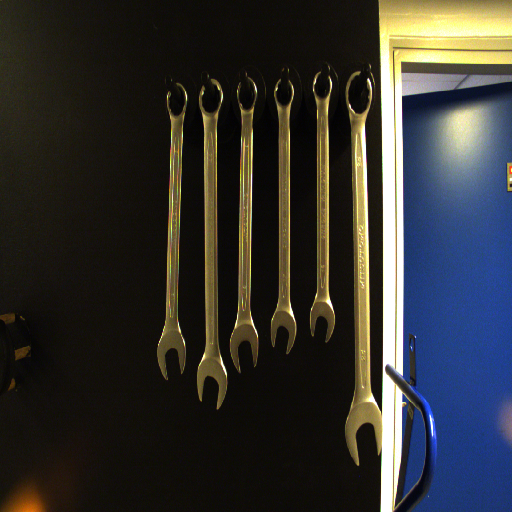bottom: (343, 400, 385, 468), (192, 356, 229, 410), (227, 324, 263, 374), (267, 308, 301, 355), (156, 332, 189, 380), (307, 297, 337, 340)
top: (341, 69, 375, 123), (194, 76, 225, 119), (158, 81, 190, 119), (234, 74, 260, 115), (271, 77, 295, 115), (308, 70, 334, 105)
